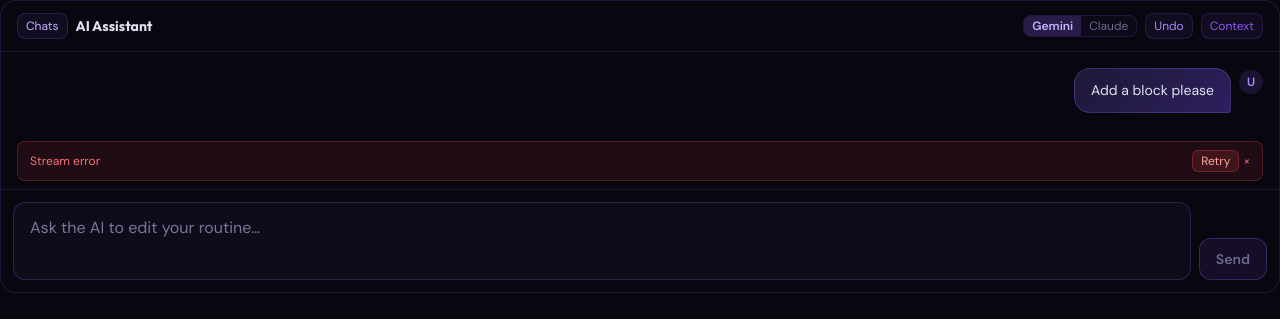
Test: ChatPanel › handleRetry does not add a second user bubble
Click the button with aria-label "retry last message": x=1216, y=161 [1192,150,1239,172]
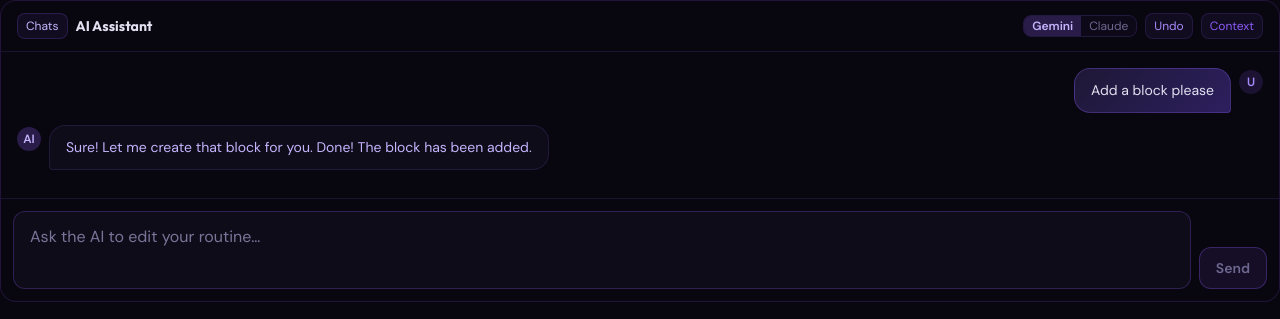
Now the text "Sure!" is shown, box [66,138,532,156]
Now the text "Add a block please" is shown once, box [1074,68,1231,113]
